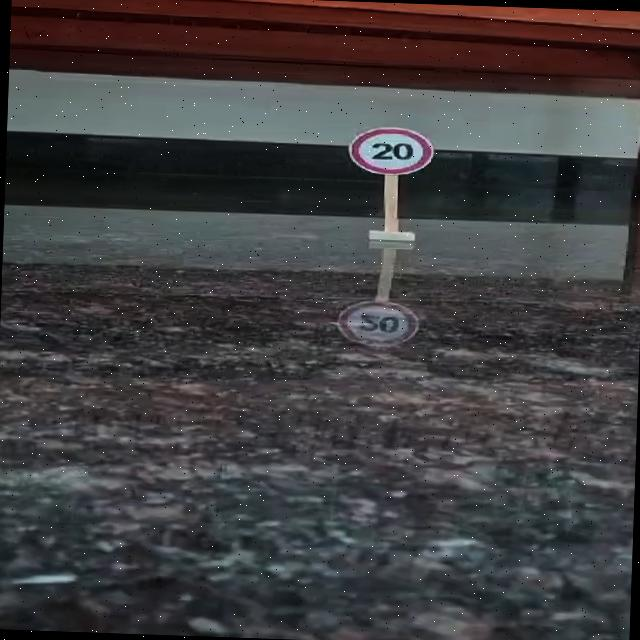Speed20: (340, 120, 440, 182)
